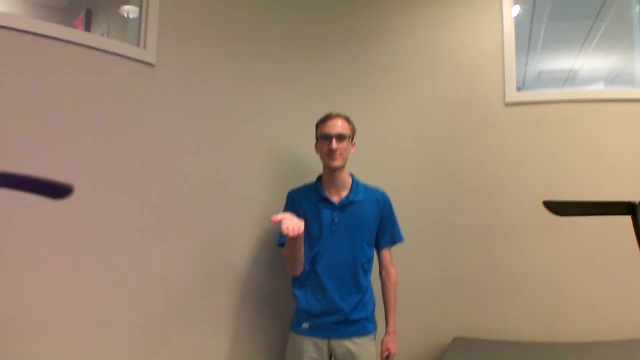land: (266, 201, 312, 240)
